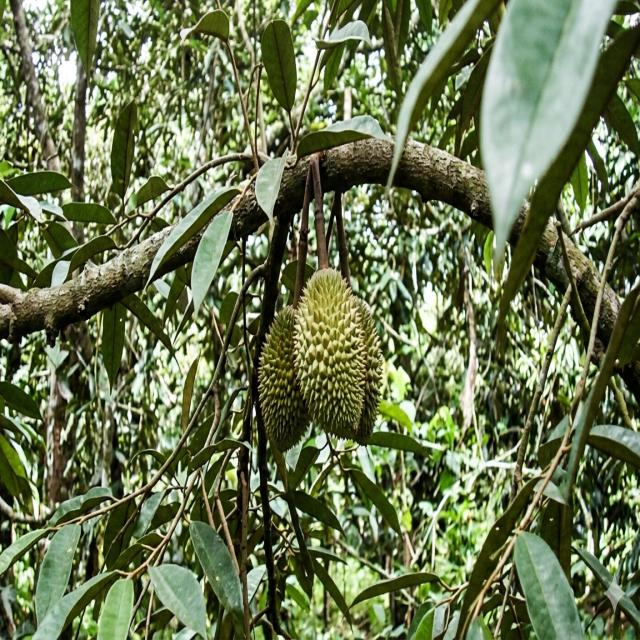immature: (292, 265, 378, 439), (257, 303, 310, 449)
